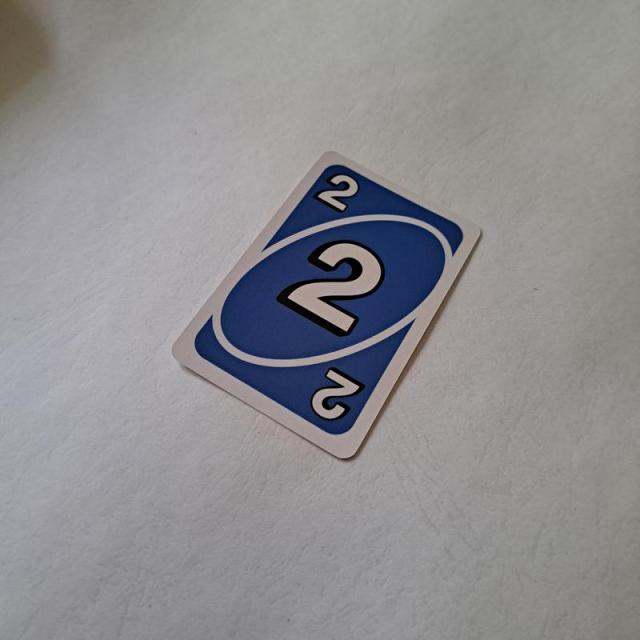Blue_Card: (190, 160, 466, 440)
Number_2: (310, 170, 362, 212)
